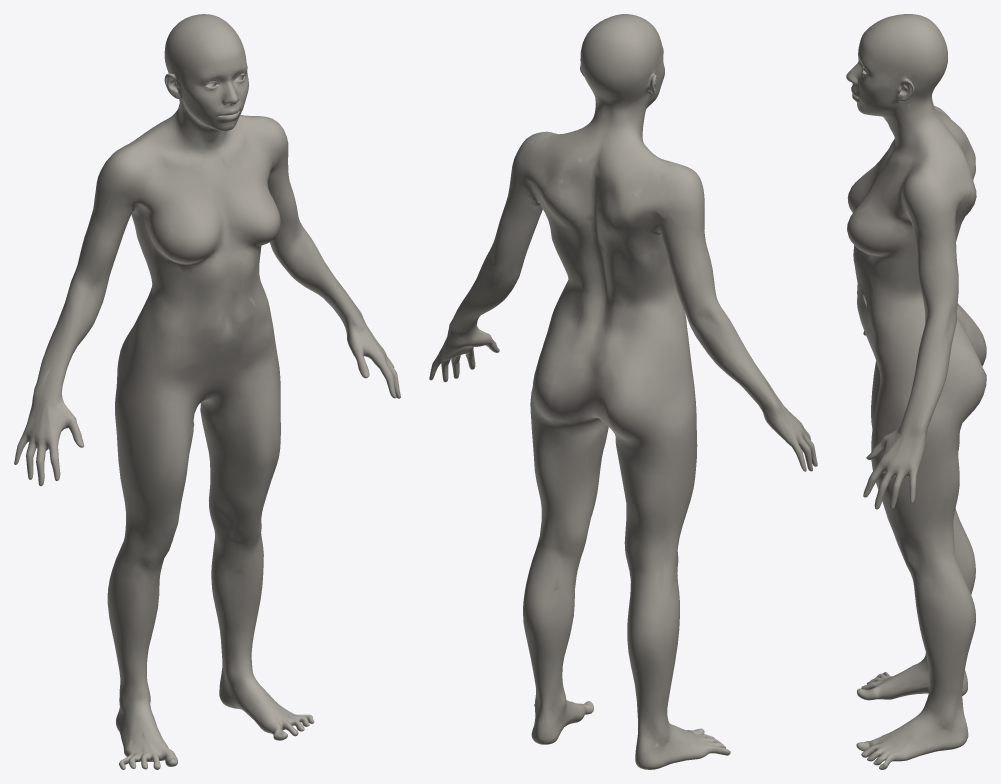
File: female.glb
3 renders of one model, left to right at view 1: azimuth 30°, elevation 25°; view 2: azimuth 150°, elevation 25°; view 3: azimuth 270°, elevation 25°, orthographic. The views are drawn at different scales.
Parts seen in each view (by area): view 1: body; view 2: body; view 3: body.
Part boxes in pixels (x1,y1,x2,y2): body: (14, 14, 400, 769); body: (429, 14, 817, 769); body: (846, 14, 986, 769).
Size of what is drawn, in the model's own units: 0.9391 by 1.72 by 0.3093.
1 material, 1 textured.
